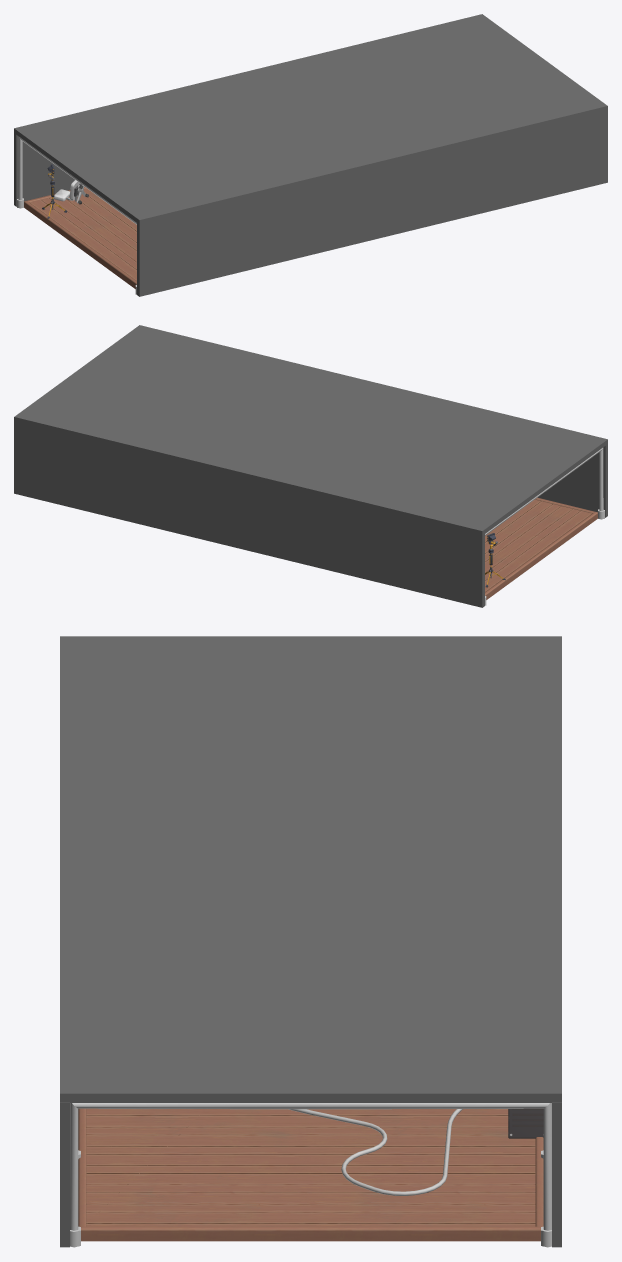
Rendered from Pfb_Tent.fbx.
3 renders of one model, top to bottom at view 1: azimuth 30°, elevation 25°; view 2: azimuth 150°, elevation 25°; view 3: azimuth 270°, elevation 25°, orthographic. The views are drawn at different scales.
Visible parts, largest first — view 1: MAT_Tent_Roof 1, Mat_Tile_FloorWoodBlank02_3, Mat_Tile_Metal_01 3, Mat_Chair_01; view 2: MAT_Tent_Roof 1, Mat_Tile_FloorWoodBlank02_3, Mat_Tile_Metal_01 3; view 3: MAT_Tent_Roof 1, Mat_Tile_FloorWoodBlank02_3, Mat_Tile_Metal_01 3, Pipe_Dark, OfficeServer01A 1.
Boxes of the visible parts, x1,y1,x2,y2 form: MAT_Tent_Roof 1: (14,14,607,296); Mat_Tile_FloorWoodBlank02_3: (24,187,136,288); Mat_Tile_Metal_01 3: (17,137,136,294); Mat_Chair_01: (53,180,88,204); MAT_Tent_Roof 1: (14,325,607,607); Mat_Tile_FloorWoodBlank02_3: (485,497,597,599); Mat_Tile_Metal_01 3: (485,448,604,605); MAT_Tent_Roof 1: (60,636,561,1247); Mat_Tile_FloorWoodBlank02_3: (78,1108,543,1241); Mat_Tile_Metal_01 3: (70,1103,551,1247); Pipe_Dark: (289,1109,462,1195); OfficeServer01A 1: (508,1108,543,1138).
Bounding box in the file's own units: 19.12 × 2.99 × 8.86.
Materials: 17 (17 with a texture image).
